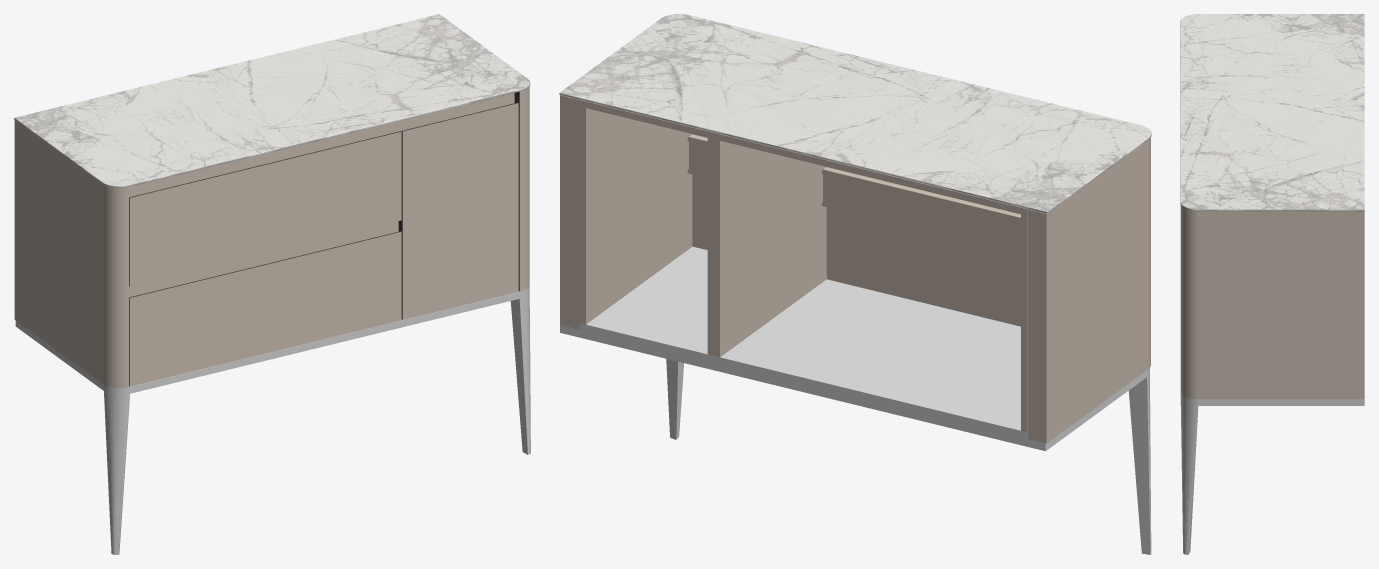
3 renders of one model, left to right at view 1: azimuth 30°, elevation 25°; view 2: azimuth 150°, elevation 25°; view 3: azimuth 270°, elevation 25°, orthographic. The views are drawn at different scales.
Parts seen in each view (by area): view 1: ER07; view 2: ER07; view 3: ER07.
Boxes of the visible parts, x1=… form: ER07: x1=14, y1=14, x2=530, y2=554; ER07: x1=559, y1=14, x2=1151, y2=554; ER07: x1=1180, y1=14, x2=1364, y2=554.
Size of the model in its own units: 1.25 by 1.04 by 0.5.
Materials: 5 (1 with a texture image).
